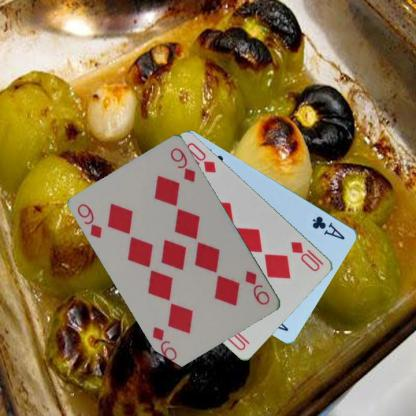10d: (288, 238, 326, 272)
9d: (242, 267, 272, 307), (75, 200, 104, 240)
Ac: (310, 213, 346, 241)
